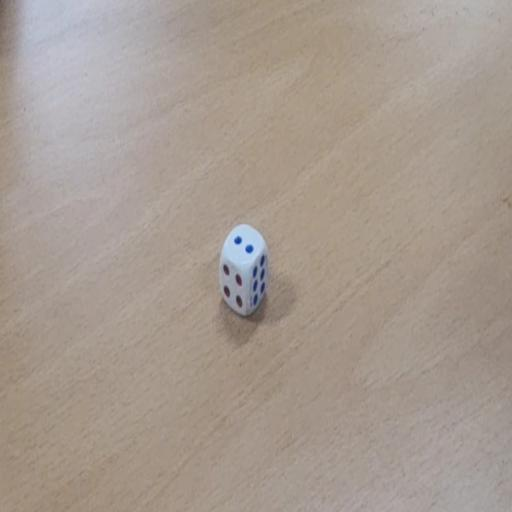dice_2: (218, 222, 269, 318)
